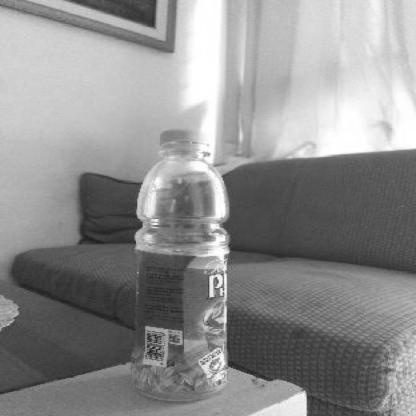plastic_bottles: (128, 124, 235, 404)
